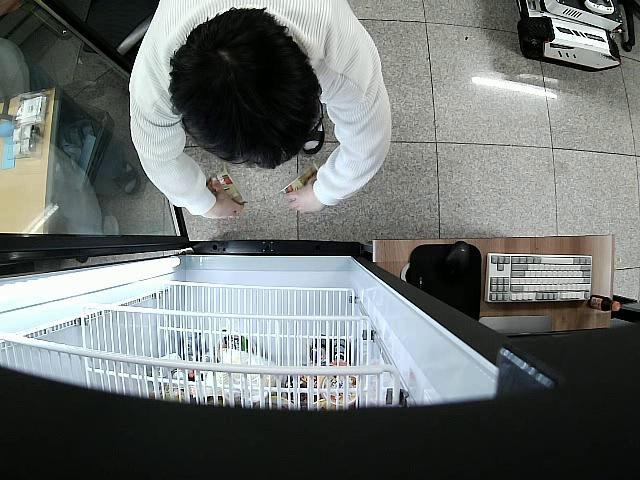03_chapagetti_L: (207, 161, 248, 208), (280, 163, 320, 198)
